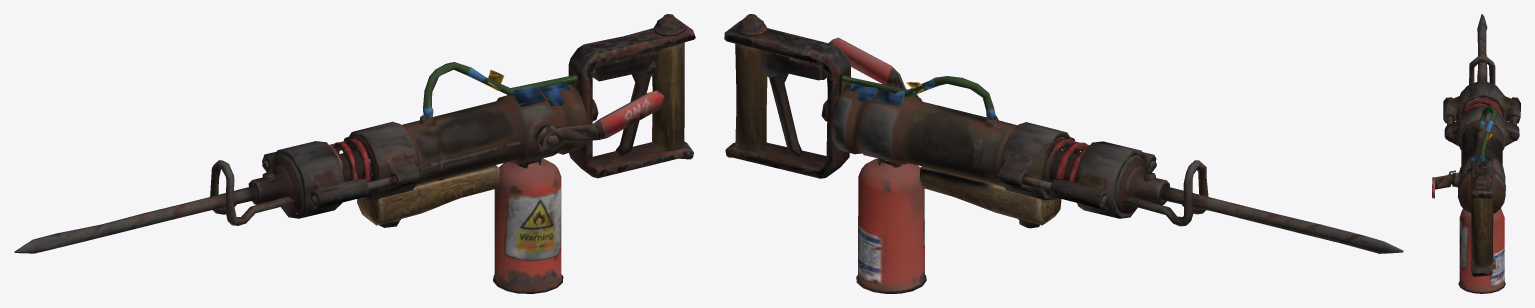
File: jackhammer.worldmodel.glb
The picture shows the model from 3 angles, left to right: view 1: azimuth 30°, elevation 25°; view 2: azimuth 150°, elevation 25°; view 3: azimuth 270°, elevation 25°; orthographic projection. The views are drawn at different scales.
Parts seen in each view (by area): view 1: PneuJackHammer_LOD0; view 2: PneuJackHammer_LOD0; view 3: PneuJackHammer_LOD0.
Boxes of the visible parts, x1,y1,x2,y2 form: PneuJackHammer_LOD0: (14,14,695,293); PneuJackHammer_LOD0: (724,14,1403,293); PneuJackHammer_LOD0: (1432,14,1520,293).
Size of the model in its own units: 0.6653 by 0.2163 by 0.1138.
Materials: 1 (1 with a texture image).
